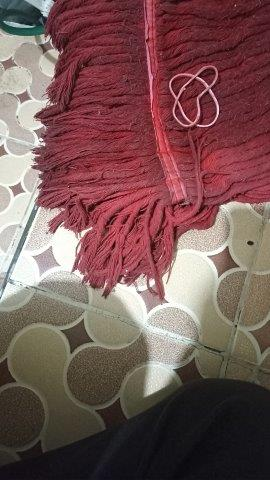karet: (167, 65, 220, 127)
